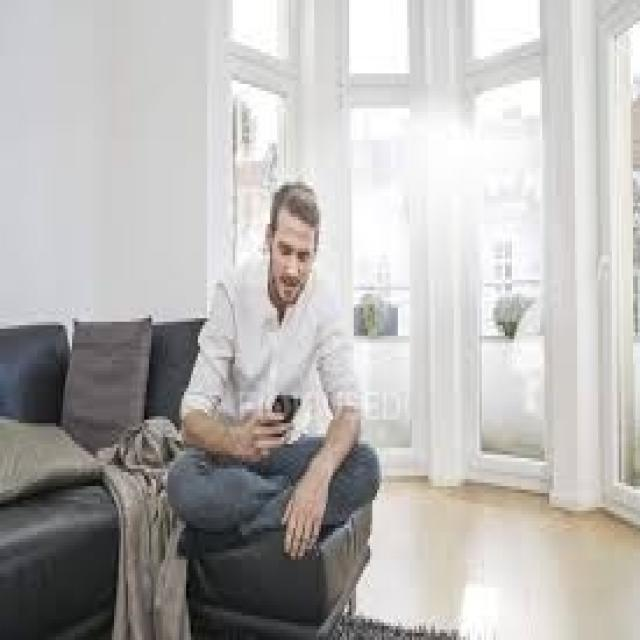sitting: (163, 160, 384, 544)
